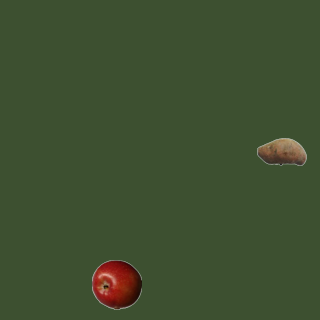Apple Braeburn: (91, 259, 141, 309)
Potato Sweet: (256, 126, 306, 176)
